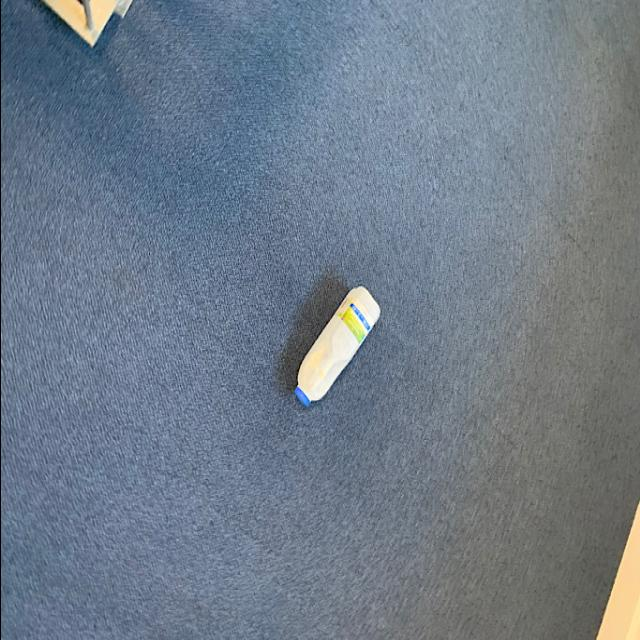HDPEM: (280, 285, 380, 417)
